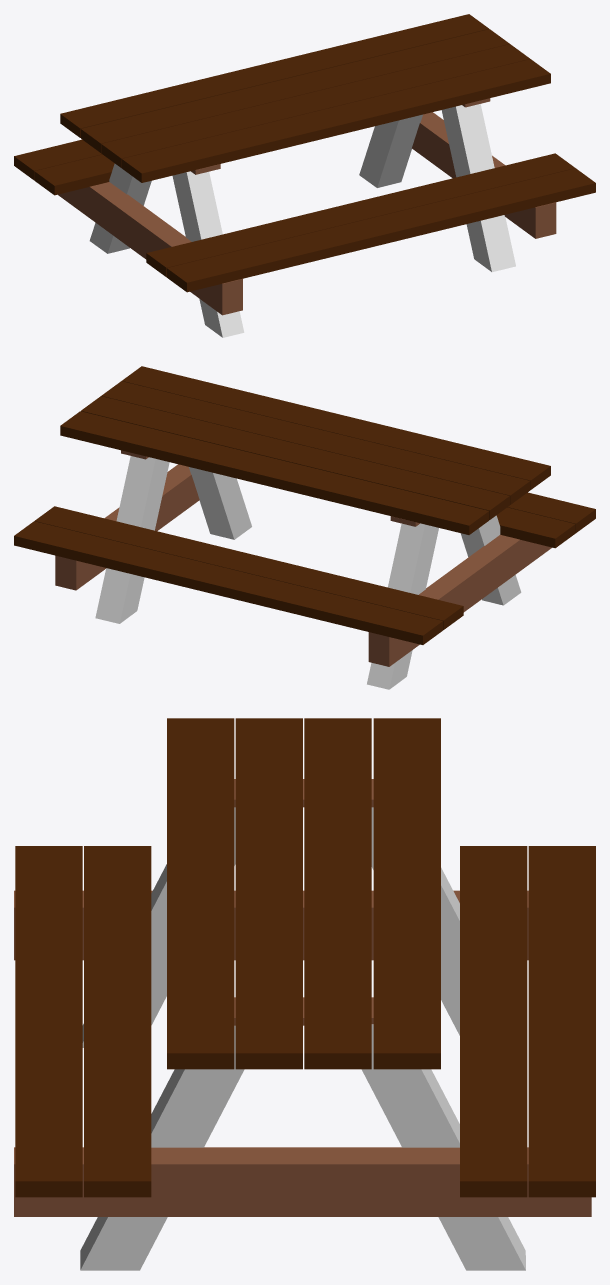
Rendered from Picnic Table.fbx.
3 renders of one model, top to bottom at view 1: azimuth 30°, elevation 25°; view 2: azimuth 150°, elevation 25°; view 3: azimuth 270°, elevation 25°, orthographic. The views are drawn at different scales.
Visible parts, largest first — view 1: picnic table; view 2: picnic table; view 3: picnic table.
Boxes of the visible parts, bbox=[...] form: picnic table: bbox=[14, 14, 595, 337]; picnic table: bbox=[14, 366, 595, 689]; picnic table: bbox=[14, 718, 595, 1270].
Bounding box in the file's own units: 1061 × 394 × 779.
3 materials, 3 textured.
